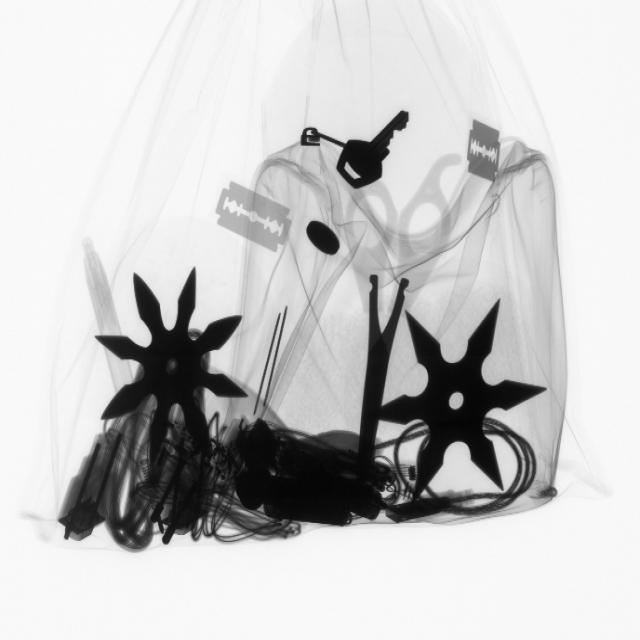BLADE: (210, 178, 300, 259), (461, 112, 508, 192)
SHURIKEN: (379, 296, 540, 502), (96, 262, 251, 470)
